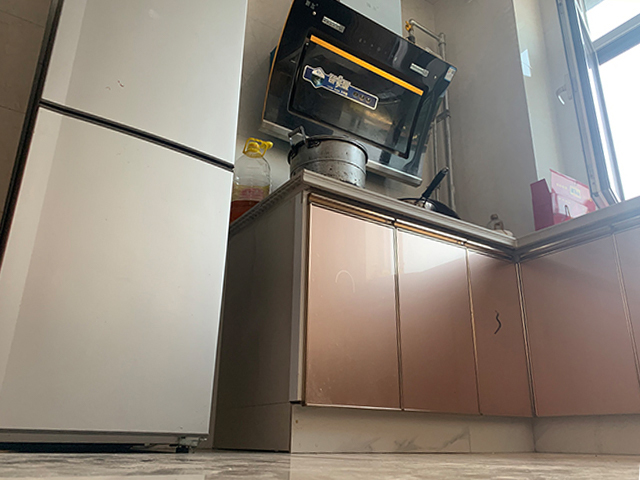cabinet: (214, 174, 528, 456), (520, 196, 640, 460)
